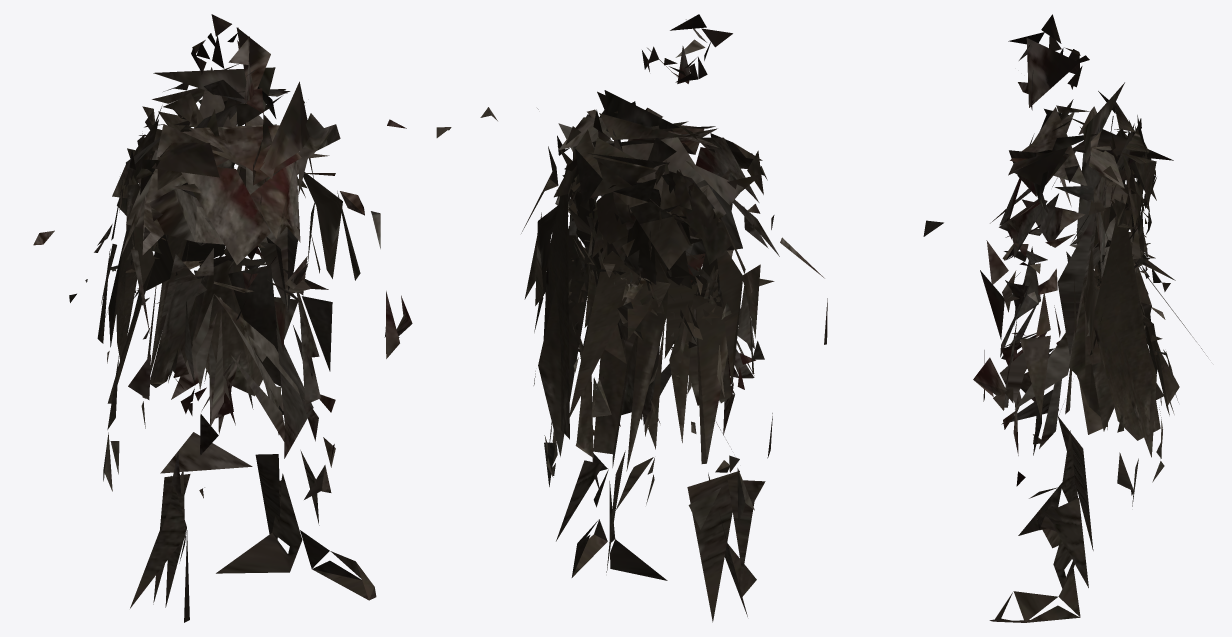
File: ex_soldier_far.glb
The picture shows the model from 3 angles, left to right: view 1: azimuth 30°, elevation 25°; view 2: azimuth 150°, elevation 25°; view 3: azimuth 270°, elevation 25°; orthographic projection. The views are drawn at different scales.
Parts seen in each view (by area): view 1: ex_soldier.002; view 2: ex_soldier.002; view 3: ex_soldier.002.
Boxes of the visible parts, x1=… form: ex_soldier.002: x1=33, y1=14, x2=451, y2=622; ex_soldier.002: x1=480, y1=14, x2=943, y2=622; ex_soldier.002: x1=973, y1=14, x2=1207, y2=622.
Size of the model in its own units: 1.41 by 1.78 by 0.7109.
1 material, 1 textured.
